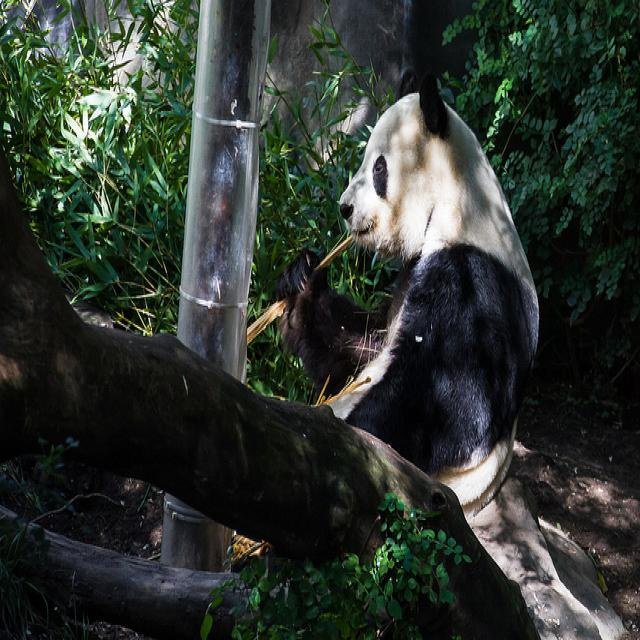Bear: (302, 72, 540, 545)
